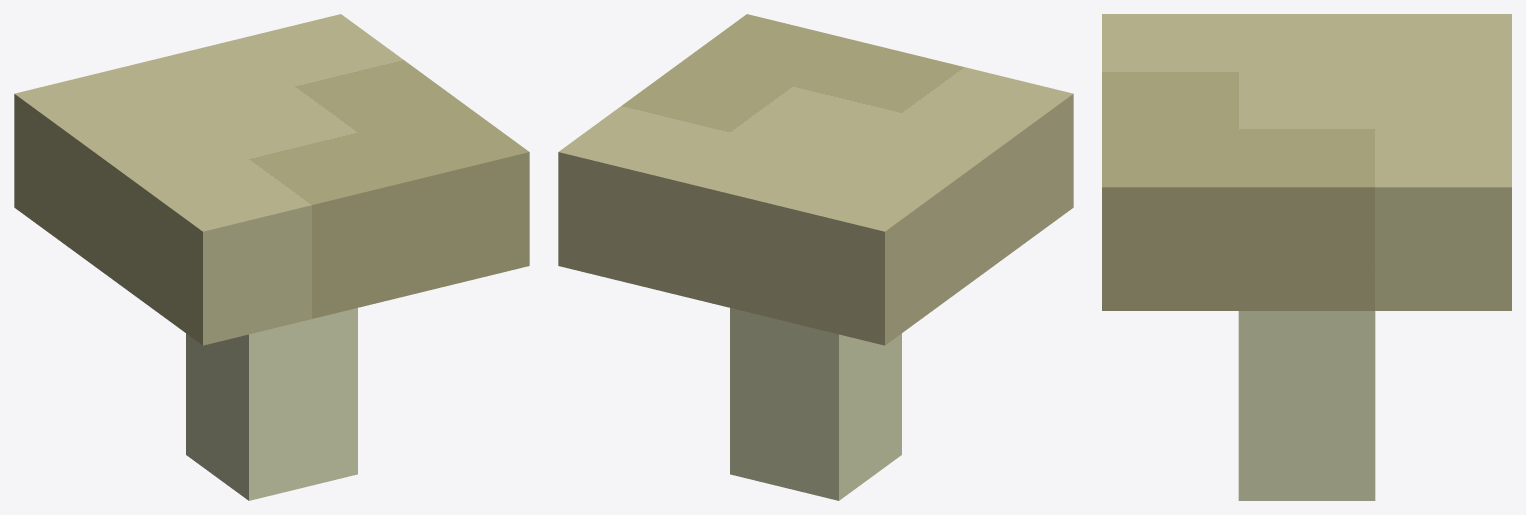
File: mushroom6.obj
3 views of the same model, side by side, from view 1: azimuth 30°, elevation 25°; view 2: azimuth 150°, elevation 25°; view 3: azimuth 270°, elevation 25° (orthographic). The views are drawn at different scales.
Parts seen in each view (by area): view 1: PlumpStandardMushroom_1; view 2: PlumpStandardMushroom_1; view 3: PlumpStandardMushroom_1.
Part boxes in pixels (<box>): PlumpStandardMushroom_1: <box>14,14,529,500</box>; PlumpStandardMushroom_1: <box>558,14,1073,500</box>; PlumpStandardMushroom_1: <box>1102,14,1511,500</box>.
Size of the model in its own units: 3 by 3 by 3.
Materials: 1 (1 with a texture image).
